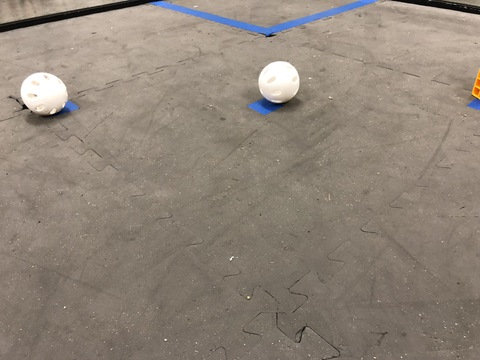ball: (12, 68, 77, 119), (256, 58, 306, 111)
block: (470, 63, 480, 123)
